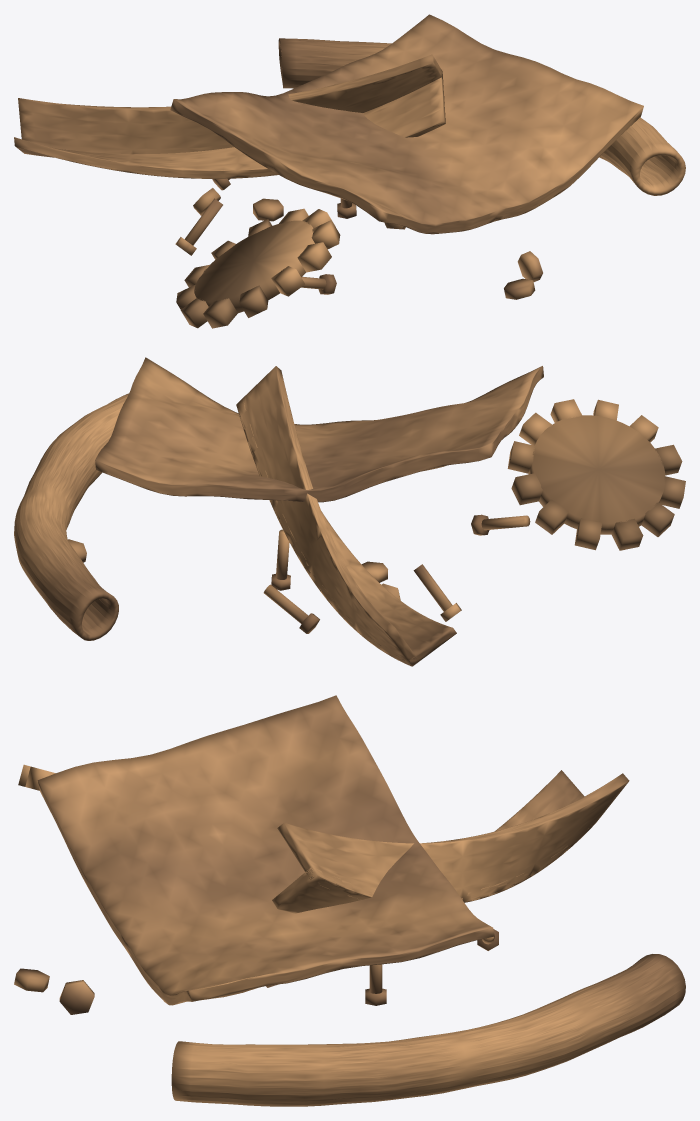
The model's file is chatarra_marron.glb.
3 renders of one model, top to bottom at view 1: azimuth 30°, elevation 25°; view 2: azimuth 150°, elevation 25°; view 3: azimuth 270°, elevation 25°, orthographic. The views are drawn at different scales.
Parts seen in each view (by area): view 1: plancha_arrugada, viga_retorcida, engranaje, tubo_doblado, tornillo_3, tuerca_2, tuerca_0, tuerca_3, tornillo_1; view 2: plancha_arrugada, engranaje, viga_retorcida, tubo_doblado, tornillo_2, tornillo_1, tornillo_3, tornillo_0; view 3: plancha_arrugada, tubo_doblado, viga_retorcida, tuerca_0, tornillo_0, tuerca_3.
Part boxes in pixels (bbox=[...]): plancha_arrugada: bbox=[170, 14, 643, 234]; viga_retorcida: bbox=[14, 54, 445, 178]; engranaje: bbox=[176, 208, 340, 328]; tubo_doblado: bbox=[278, 38, 685, 195]; tornillo_3: bbox=[175, 198, 222, 255]; tuerca_2: bbox=[253, 198, 283, 221]; tuerca_0: bbox=[517, 251, 542, 281]; tuerca_3: bbox=[504, 278, 535, 299]; tornillo_1: bbox=[301, 274, 336, 294]; plancha_arrugada: bbox=[95, 357, 543, 502]; engranaje: bbox=[507, 399, 685, 550]; viga_retorcida: bbox=[236, 366, 456, 666]; tubo_doblado: bbox=[14, 393, 128, 640]; tornillo_2: bbox=[263, 584, 319, 633]; tornillo_1: bbox=[471, 514, 530, 535]; tornillo_3: bbox=[413, 564, 461, 621]; tornillo_0: bbox=[271, 529, 290, 590]; plancha_arrugada: bbox=[37, 695, 494, 1005]; tubo_doblado: bbox=[171, 954, 685, 1106]; viga_retorcida: bbox=[272, 770, 629, 913]; tuerca_0: bbox=[59, 980, 94, 1014]; tornillo_0: bbox=[365, 964, 386, 1005]; tuerca_3: bbox=[14, 968, 49, 992].
Bounding box in the file's own units: 1.99 × 0.639 × 1.9.
